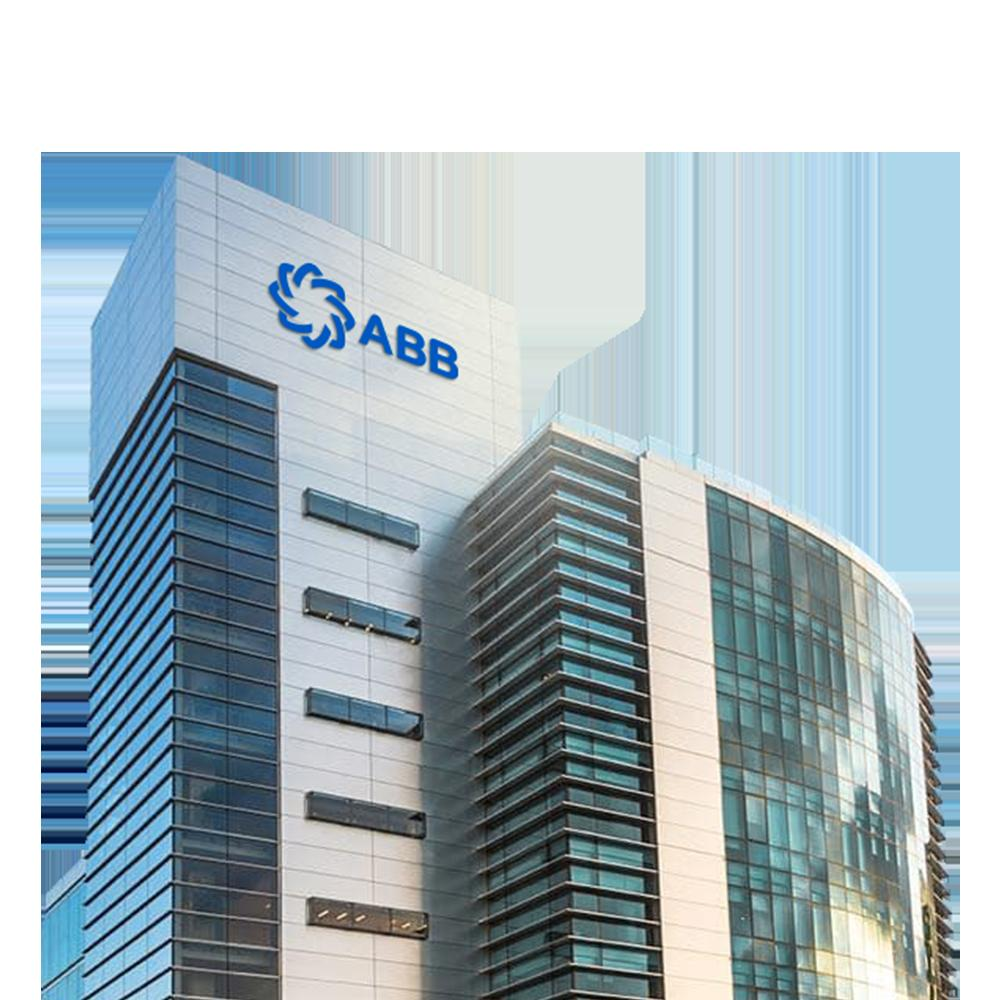ABB: (267, 259, 357, 351)
